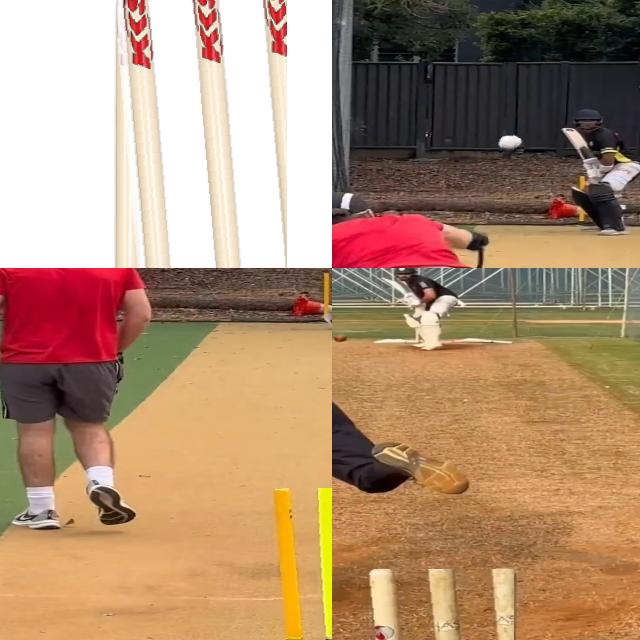Cricket ball: (494, 134, 524, 154), (333, 334, 348, 343)
Stumps: (107, 0, 287, 268), (256, 488, 332, 640), (361, 569, 514, 640), (320, 268, 332, 323)
